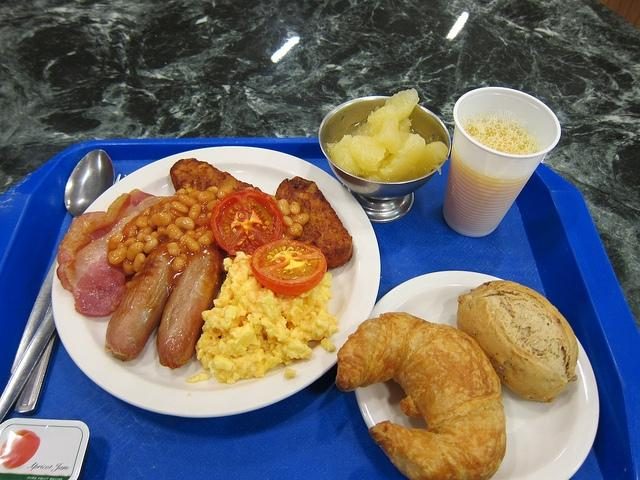pineapple: (362, 134, 426, 182), (392, 142, 448, 183), (367, 104, 412, 153), (327, 134, 366, 176), (348, 136, 386, 171), (384, 88, 420, 122), (351, 120, 372, 138), (398, 118, 412, 134)
tomato: (210, 188, 284, 256), (250, 239, 328, 295)
